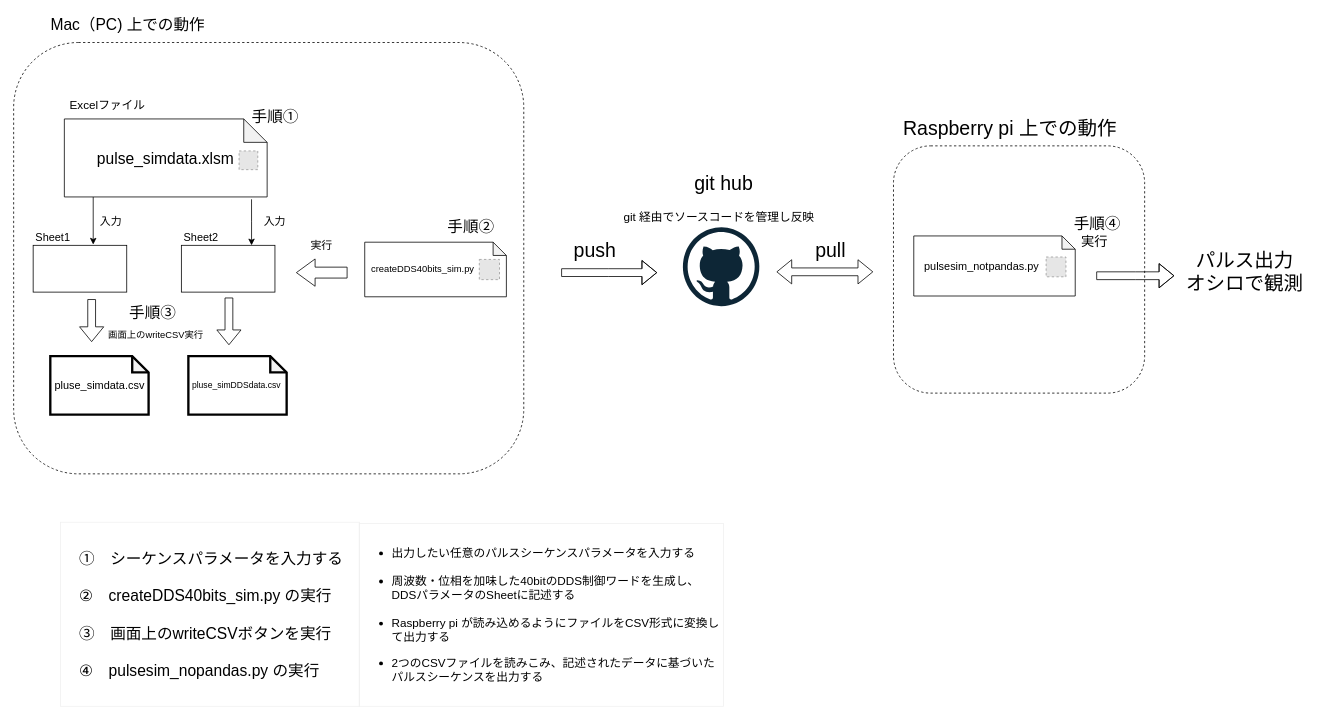
Some shapes in this 1321 by 720 pixel diagram are drawn without their labels. Grey dashed boxes stand in for pictures. The shapes that lost their labels are listed below. From the top down, each one's centre as x and y in pixels, then its label:
the point at 79,268: Pulseパラメータ
the point at 228,268: DDSパラメータ
